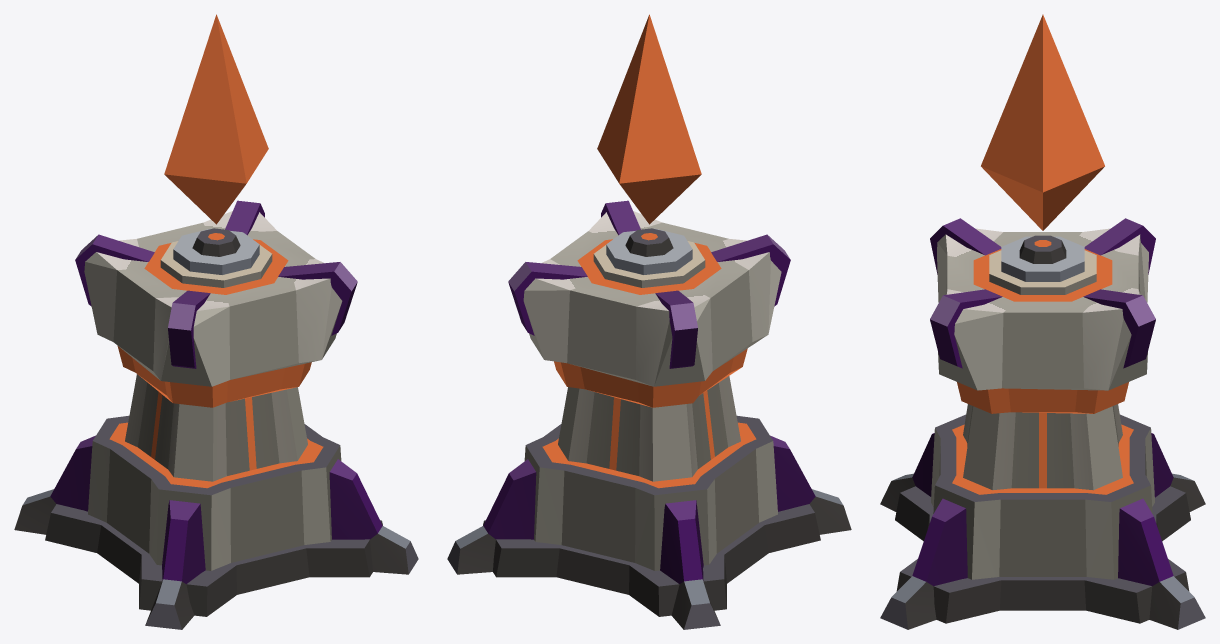
File: MageTower_Lv4A.obj
3 renders of one model, left to right at view 1: azimuth 30°, elevation 25°; view 2: azimuth 150°, elevation 25°; view 3: azimuth 270°, elevation 25°, orthographic. The views are drawn at different scales.
Parts seen in each view (by area): view 1: MageTower_Lv4A; view 2: MageTower_Lv4A; view 3: MageTower_Lv4A.
Boxes of the visible parts, x1,y1,x2,y2 form: MageTower_Lv4A: [14, 14, 418, 629]; MageTower_Lv4A: [447, 14, 851, 629]; MageTower_Lv4A: [880, 14, 1205, 629].
Bounding box in the file's own units: 8.23 × 15.24 × 8.23.
Materials: 1 (1 with a texture image).
